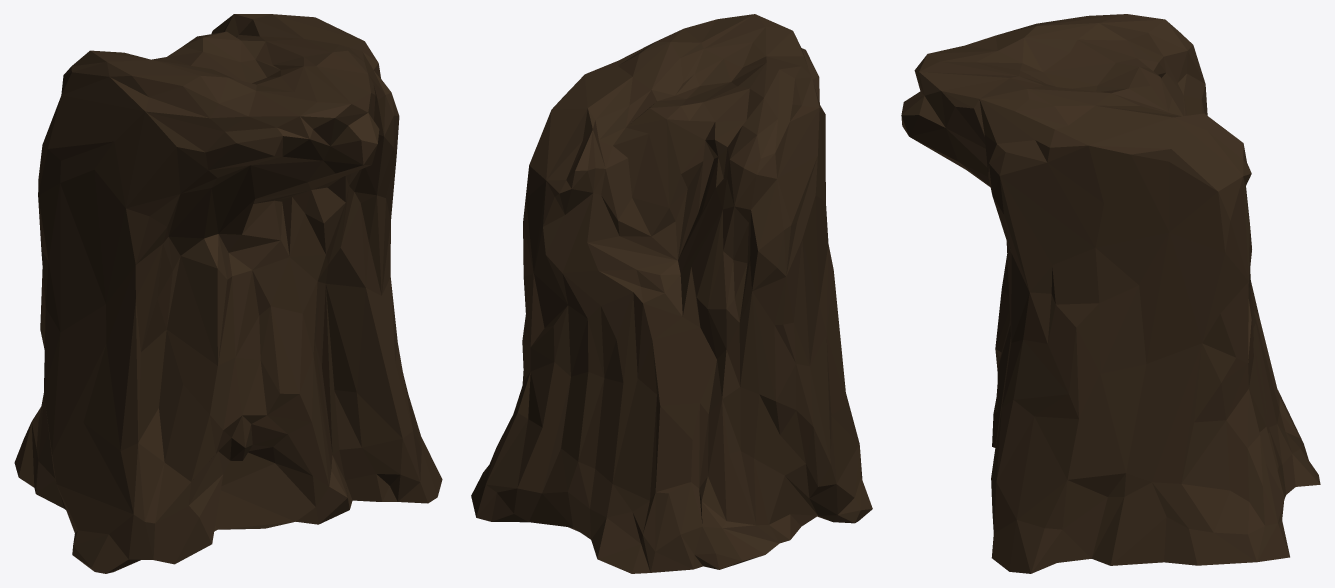
File: SM_cliff_01.FBX
3 renders of one model, left to right at view 1: azimuth 30°, elevation 25°; view 2: azimuth 150°, elevation 25°; view 3: azimuth 270°, elevation 25°, orthographic. The views are drawn at different scales.
Parts seen in each view (by area): view 1: Object034; view 2: Object034; view 3: Object034.
Part boxes in pixels (<box>): Object034: <box>14,14,442,573</box>; Object034: <box>471,14,872,573</box>; Object034: <box>901,14,1320,573</box>.
Bounding box in the file's own units: 1571 × 2061 × 1721.
